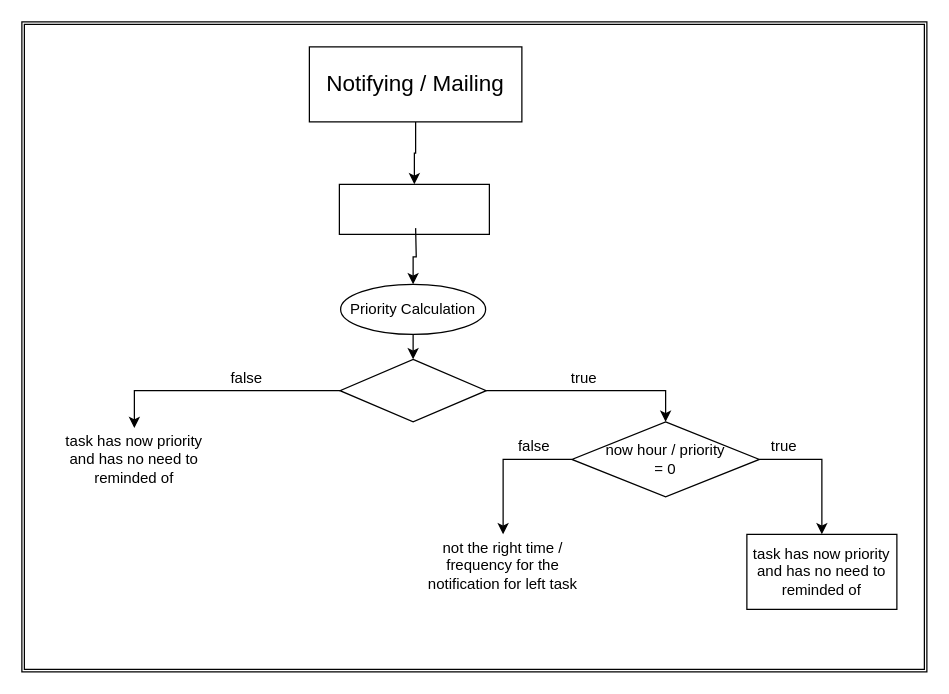
This 949x694 diagram has some shape labels left out. The centre of each missing label's shape, as x and y in pixels:
"getting tasks time from storage" belongs at (x=413, y=208).
"priority = 0" belongs at (x=412, y=390).
